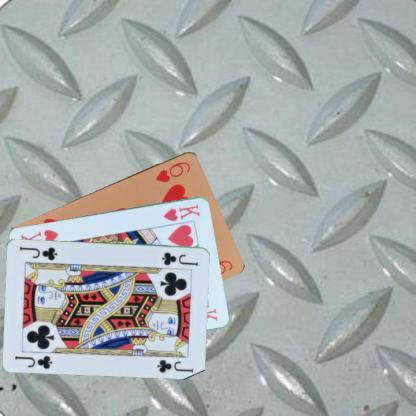6h: (153, 159, 192, 184)
Jc: (159, 250, 200, 267), (13, 353, 54, 370)
Kh: (161, 201, 202, 222)
